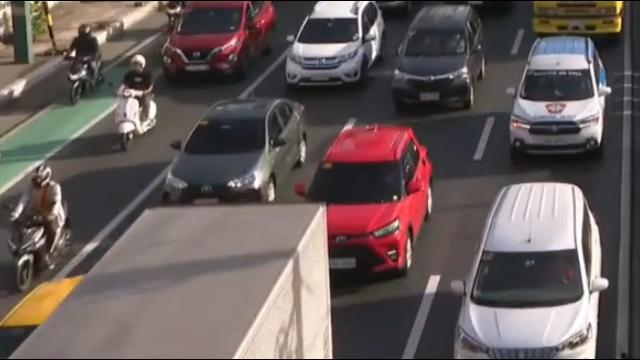bus: (532, 2, 624, 39)
car: (448, 182, 611, 359), (296, 125, 435, 280), (161, 100, 309, 211), (509, 36, 612, 159), (389, 4, 486, 111), (159, 0, 276, 82), (287, 1, 388, 89)
motorcycle: (1, 165, 77, 295), (113, 54, 158, 154), (59, 23, 106, 106), (163, 1, 183, 33)
truck: (0, 188, 349, 360)
